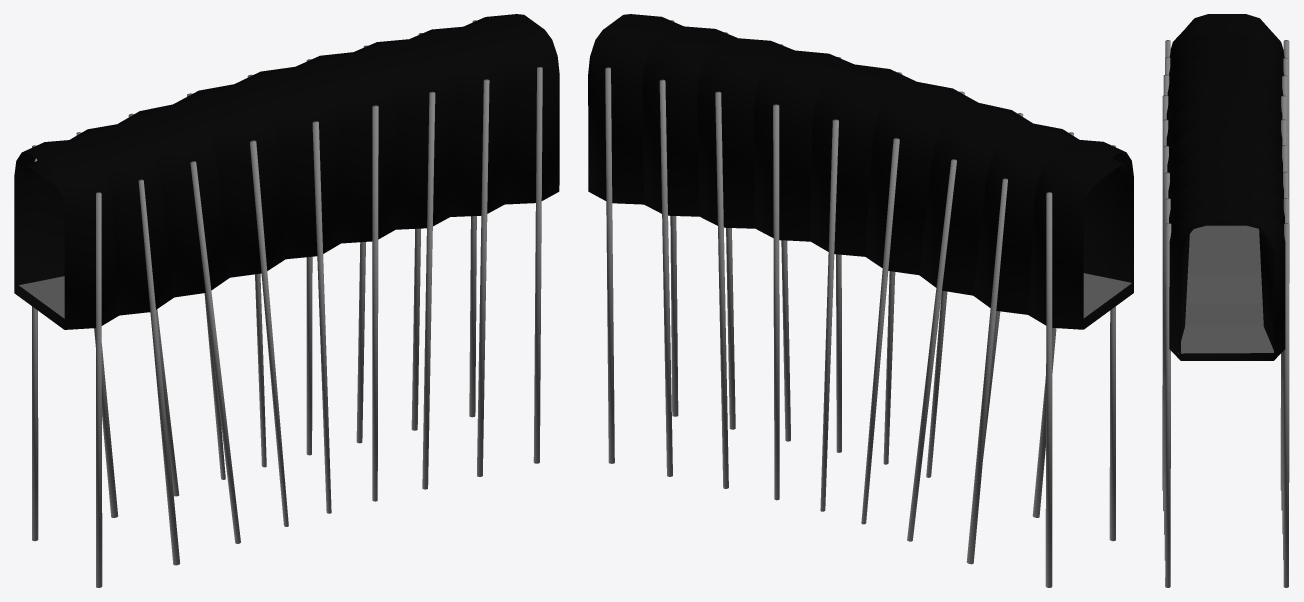
File: tube-to-pod.fbx
3 views of the same model, side by side, from view 1: azimuth 30°, elevation 25°; view 2: azimuth 150°, elevation 25°; view 3: azimuth 270°, elevation 25° (orthographic). The views are drawn at different scales.
Visible parts, largest first — view 1: Cube.004; view 2: Cube.004; view 3: Cube.004.
Boxes of the visible parts, bbox=[...] form: Cube.004: bbox=[14, 14, 559, 587]; Cube.004: bbox=[588, 14, 1133, 587]; Cube.004: bbox=[1162, 14, 1289, 587].
Size of the model in its own units: 440 by 364 by 106.
